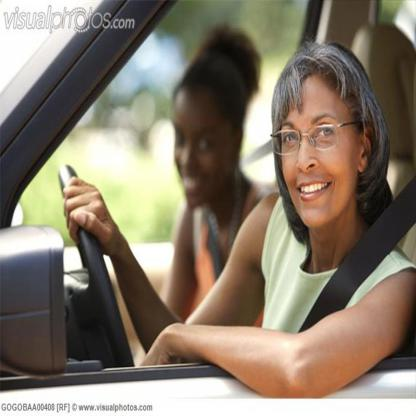face: (282, 90, 356, 227), (176, 105, 223, 205)
